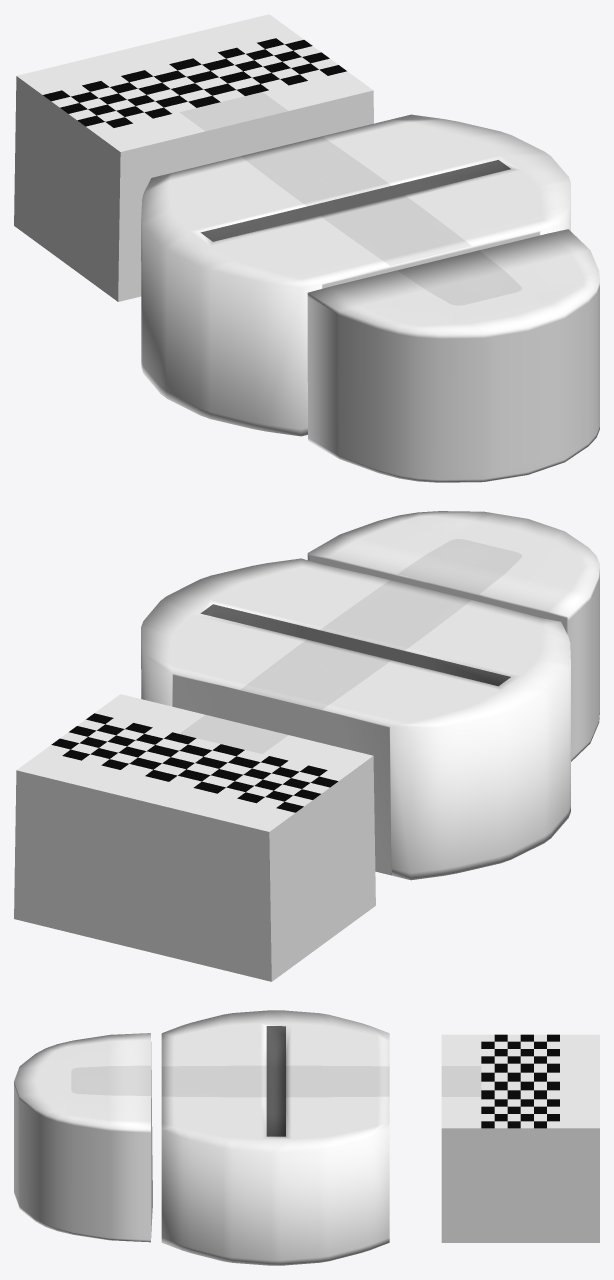
File: road starting & road obstacle& road finish.fbx
3 views of the same model, one above another, from view 1: azimuth 30°, elevation 25°; view 2: azimuth 150°, elevation 25°; view 3: azimuth 270°, elevation 25° (orthographic). The views are drawn at different scales.
Parts seen in each view (by area): view 1: roadobstacles, road starting, finishline; view 2: roadobstacles, finishline, road starting; view 3: roadobstacles, finishline, road starting.
Boxes of the visible parts, x1=… form: roadobstacles: x1=141, y1=114, x2=570, y2=436; road starting: x1=307, y1=229, x2=599, y2=482; finishline: x1=14, y1=14, x2=373, y2=301; roadobstacles: x1=141, y1=558, x2=570, y2=880; finishline: x1=14, y1=694, x2=375, y2=981; road starting: x1=307, y1=511, x2=599, y2=761; roadobstacles: x1=161, y1=1010, x2=389, y2=1265; finishline: x1=441, y1=1034, x2=599, y2=1242; road starting: x1=14, y1=1033, x2=152, y2=1242.
Size of the model in its own units: 736 by 277 by 1278.
